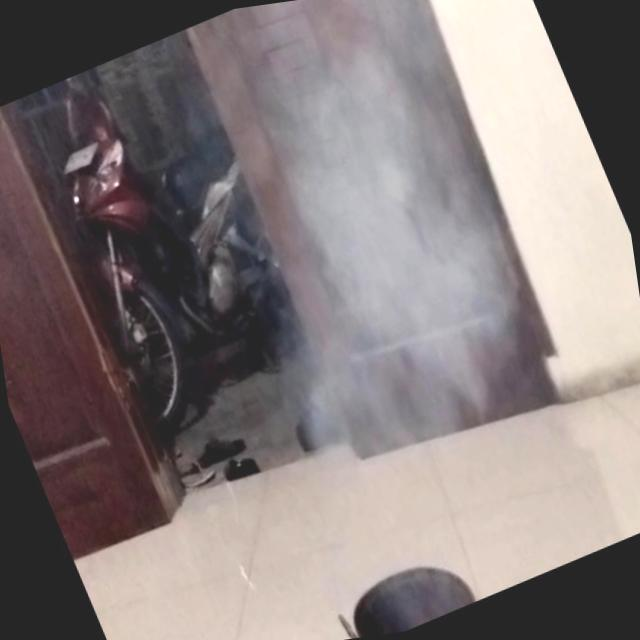smoke: (195, 219, 640, 605), (149, 0, 582, 345)
